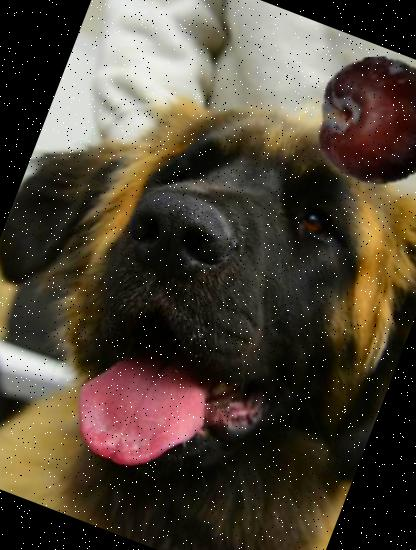Plum: (296, 37, 416, 206)
